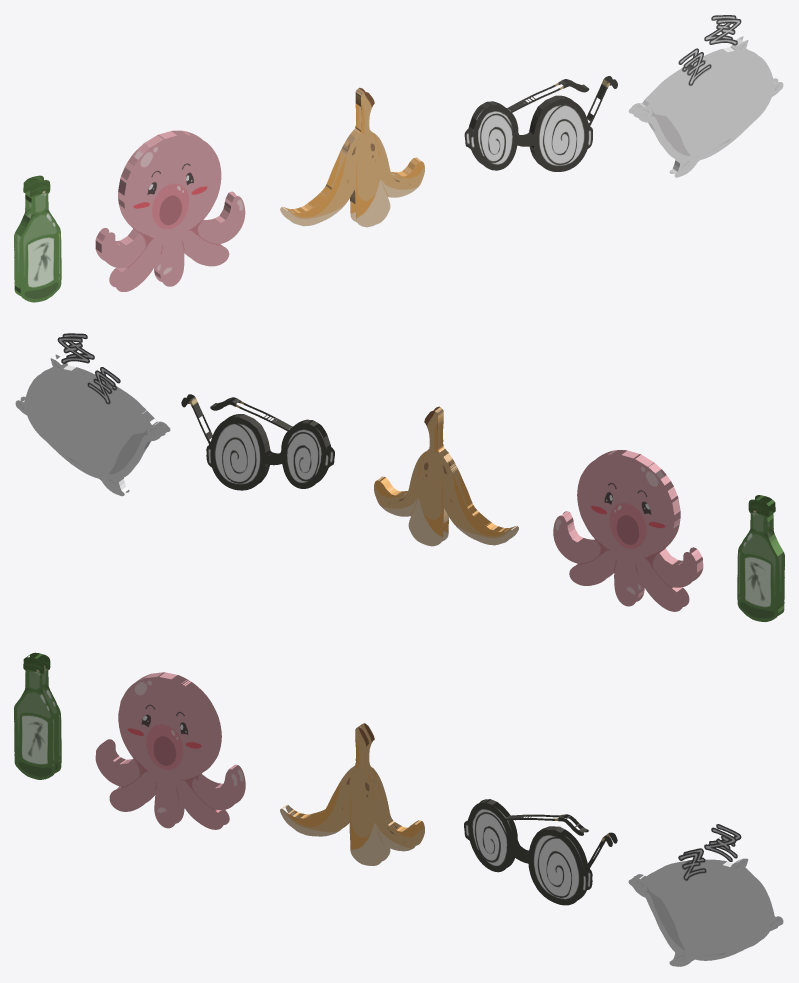
File: item_3d.FBX
3 renders of one model, top to bottom at view 1: azimuth 30°, elevation 25°; view 2: azimuth 150°, elevation 25°; view 3: azimuth 330°, elevation 25°, orthographic.
Visible parts, largest first — view 1: Plane002, Plane005, Plane004, Plane003, Plane001; view 2: Plane002, Plane005, Plane004, Plane003, Plane001; view 3: Plane002, Plane005, Plane004, Plane003, Plane001.
Part boxes in pixels (<box>): Plane002: <box>95,130,245,291</box>; Plane005: <box>628,15,783,177</box>; Plane004: <box>464,76,617,171</box>; Plane003: <box>280,87,424,227</box>; Plane001: <box>14,175,61,302</box>; Plane002: <box>553,450,703,611</box>; Plane005: <box>15,333,170,496</box>; Plane004: <box>181,394,334,490</box>; Plane003: <box>374,406,518,546</box>; Plane001: <box>737,495,784,621</box>; Plane002: <box>95,672,245,829</box>; Plane005: <box>628,824,783,966</box>; Plane004: <box>464,799,617,905</box>; Plane003: <box>280,723,424,865</box>; Plane001: <box>14,652,61,779</box>.
Size of the model in its own units: 47.78 by 9.88 by 0.6704.
Materials: 5 (5 with a texture image).
